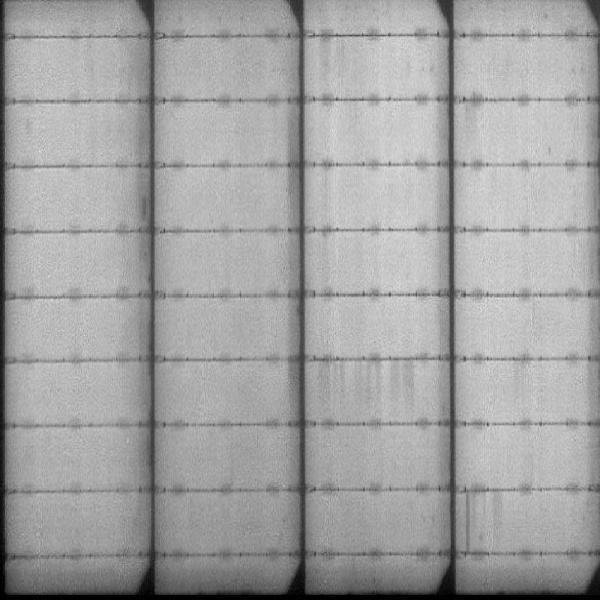scratch: (462, 489, 475, 553)
